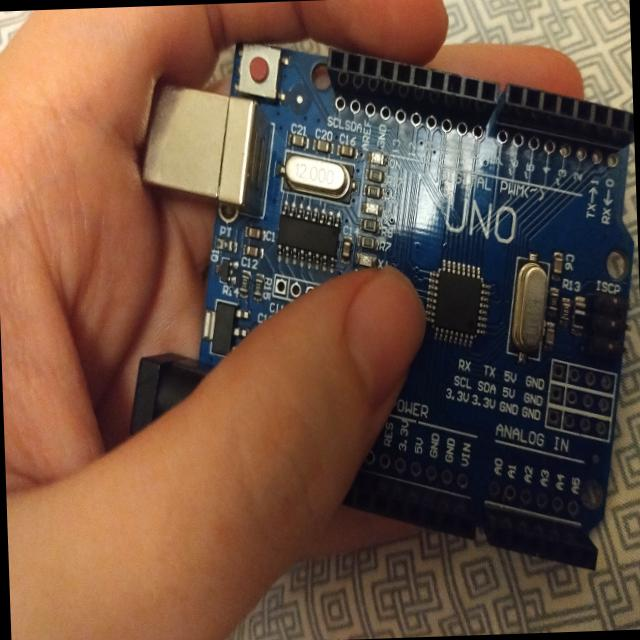arduino: (116, 0, 637, 594)
